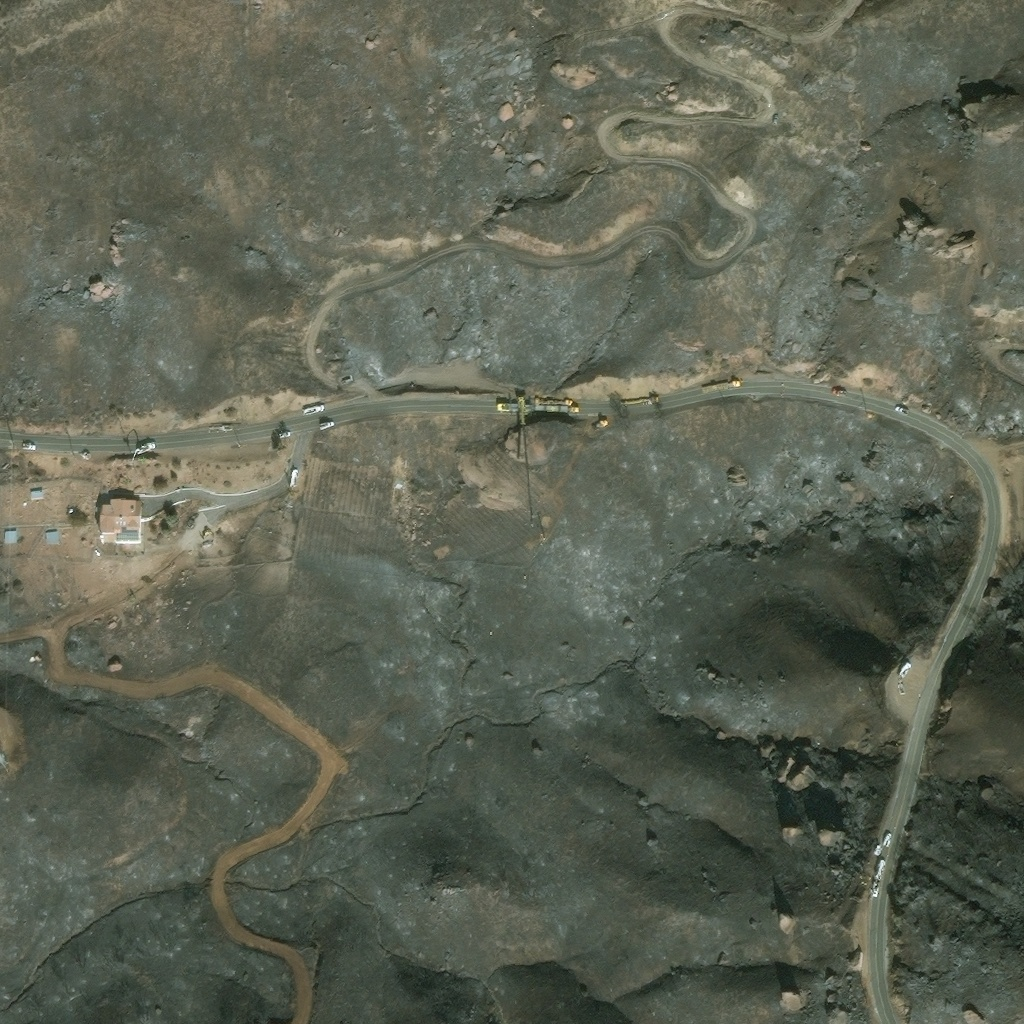0 no-damage: (98, 498, 143, 544), (45, 531, 60, 545), (4, 531, 18, 544), (29, 490, 44, 501), (68, 508, 73, 515)
3 destroyed: (280, 495, 294, 512), (187, 518, 196, 529), (341, 376, 351, 383)
4 un-classified: (31, 503, 38, 507)
